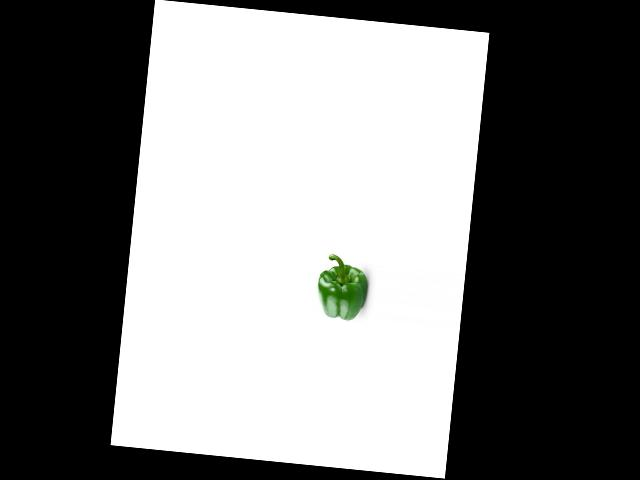bell_pepper: (313, 251, 369, 323)
